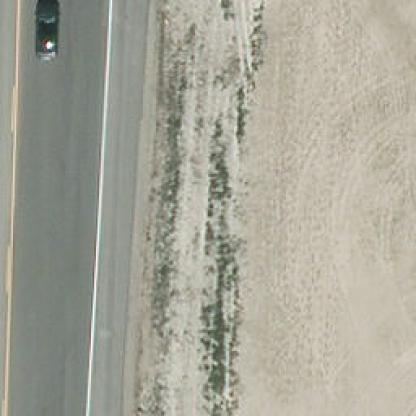car: (32, 0, 59, 59)
